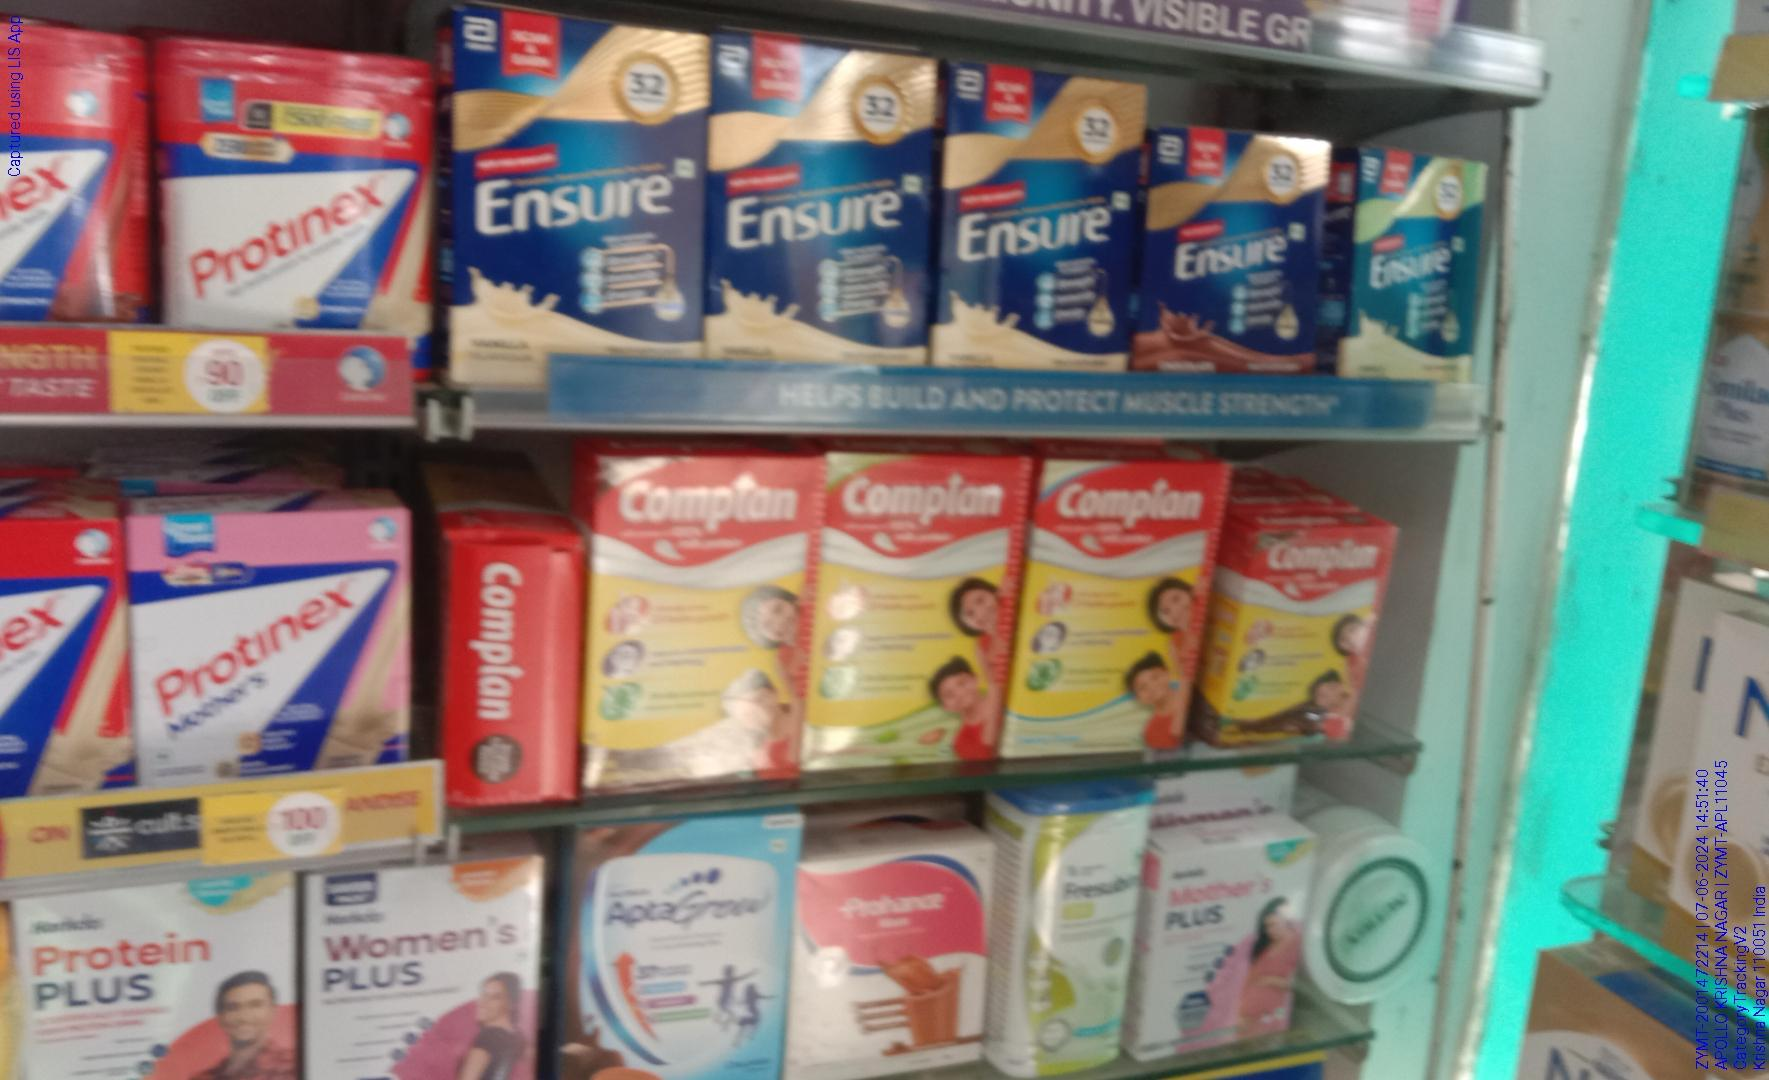COMPLAN_CHOCOLATE_200_GMS_PACK: (1237, 522, 1392, 755)
COMPLAN_KESAR_BADAM_500_GMS_PACK: (1029, 457, 1219, 759)
COMPLAN_PISTA_BADAM_500_GMS_PACK: (829, 453, 1027, 774)
ENSURE_VANILLA_400_G_PACK: (450, 9, 703, 364), (716, 39, 934, 368), (945, 66, 1133, 374)
PROTINEX_VANILLA_400_G_JAR: (157, 32, 440, 337)
